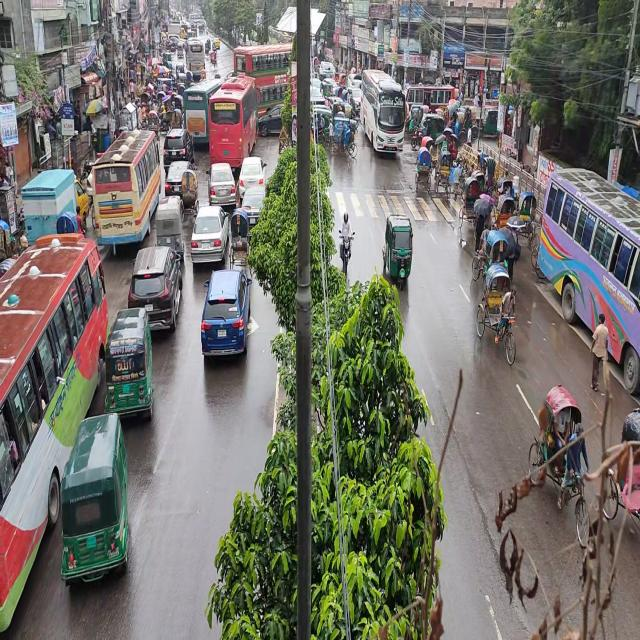black: (127, 236, 184, 336)
blue: (200, 260, 250, 366)
